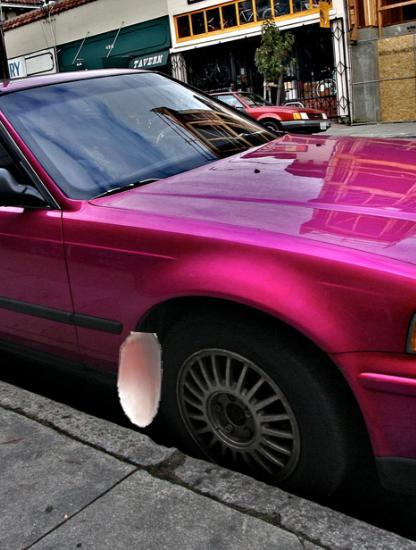Hazelnut: (91, 332, 189, 430)
